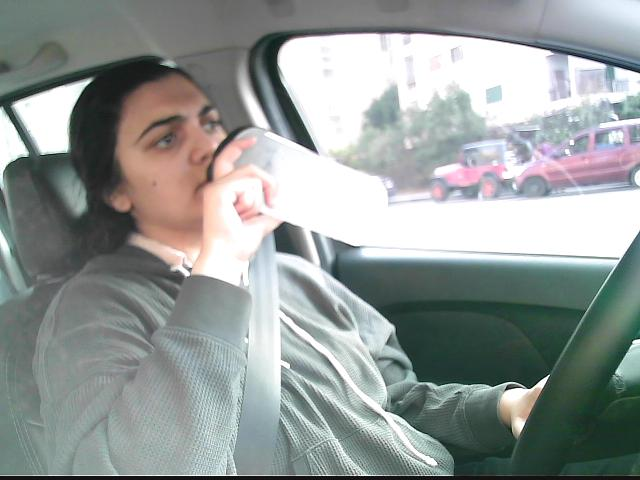Drinking: (203, 120, 388, 248)
